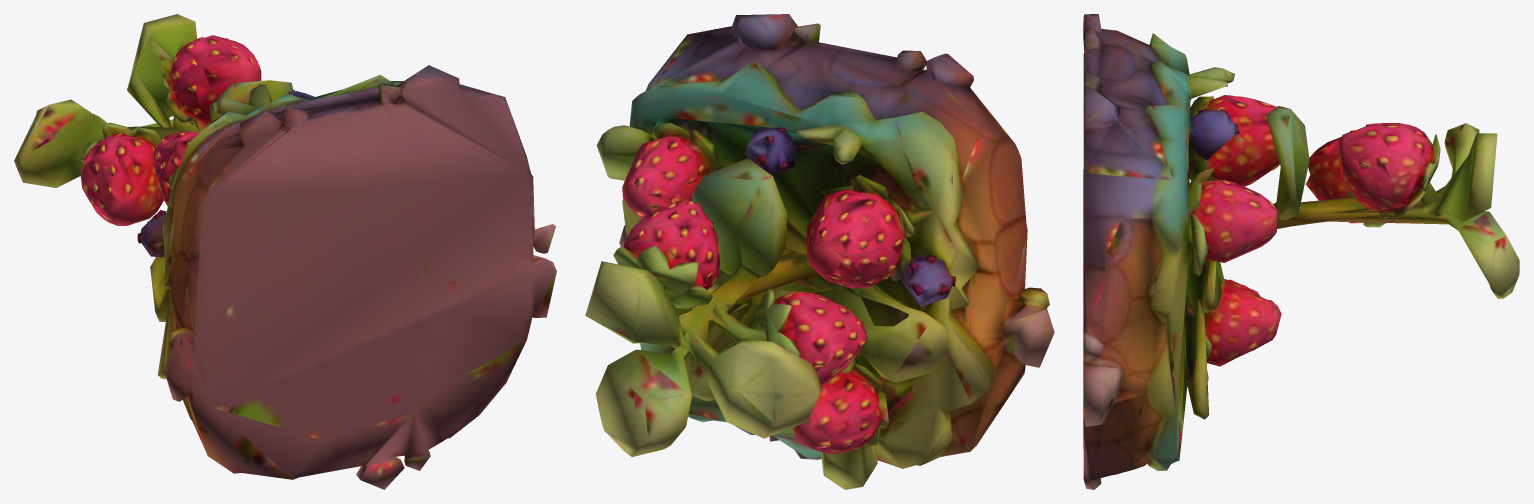
3 renders of one model, left to right at view 1: azimuth 30°, elevation 25°; view 2: azimuth 150°, elevation 25°; view 3: azimuth 270°, elevation 25°, orthographic. The views are drawn at different scales.
Visible parts, largest first — view 1: material; view 2: material; view 3: material.
Boxes of the visible parts, x1,y1,x2,y2 form: material: [14, 14, 556, 489]; material: [585, 14, 1054, 489]; material: [1083, 14, 1519, 489].
Size of the model in its own units: 1 by 0.9889 by 0.9547.
1 material, 1 textured.
